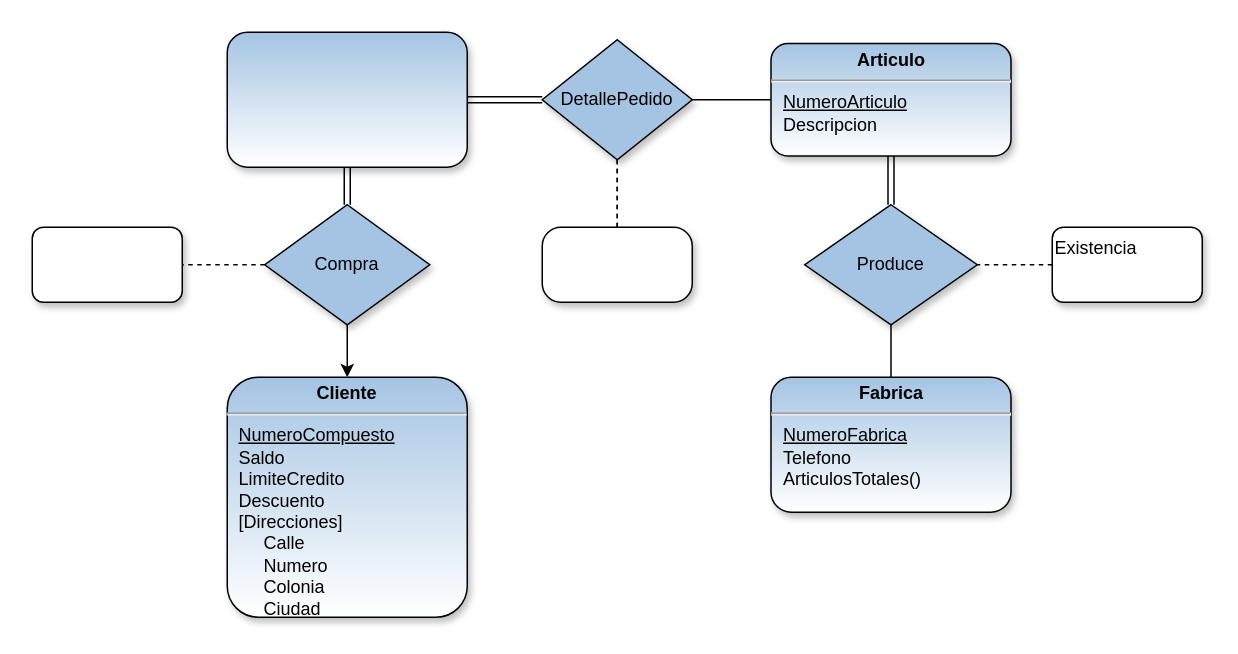
This 1238x654 diagram has some shape labels left out. The centre of each missing label's shape, as x and y in pixels:
Cantidad PrecioUnitario: the point at 618,266
DireccionEnvio: the point at 108,266
Pedido NumeroPedido FechaPedido Dia Hora: the point at 348,101
